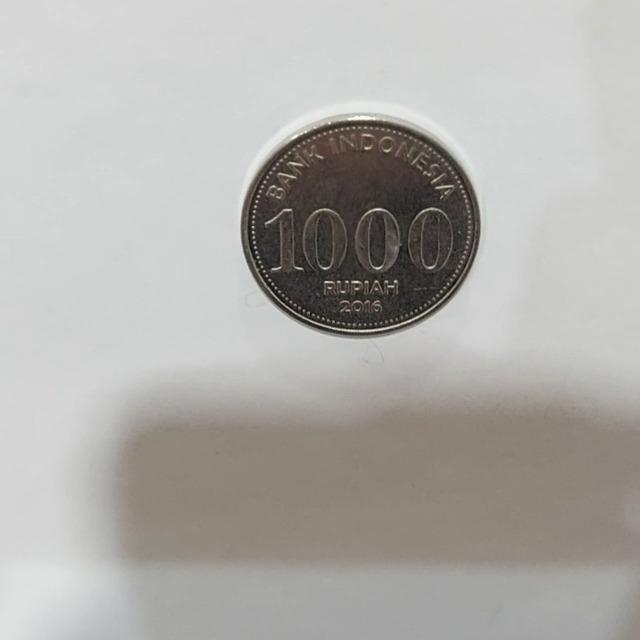Rp100: (239, 108, 481, 338)
